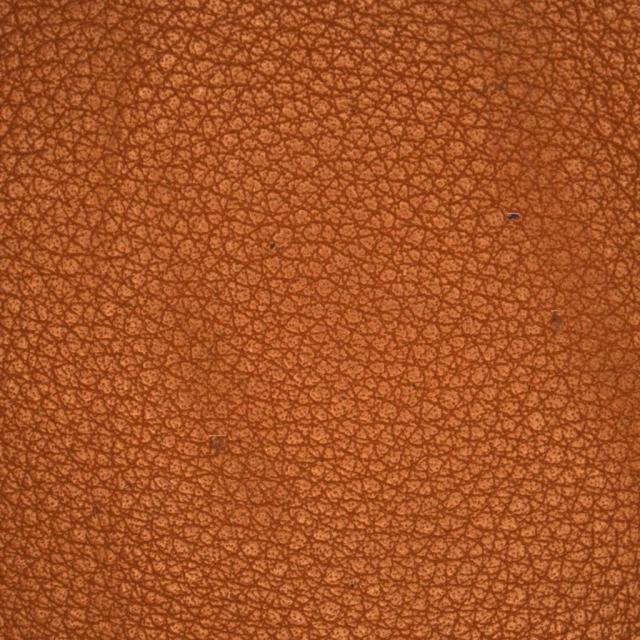Hole: (452, 144, 569, 285)
pinhole: (512, 252, 608, 388)
